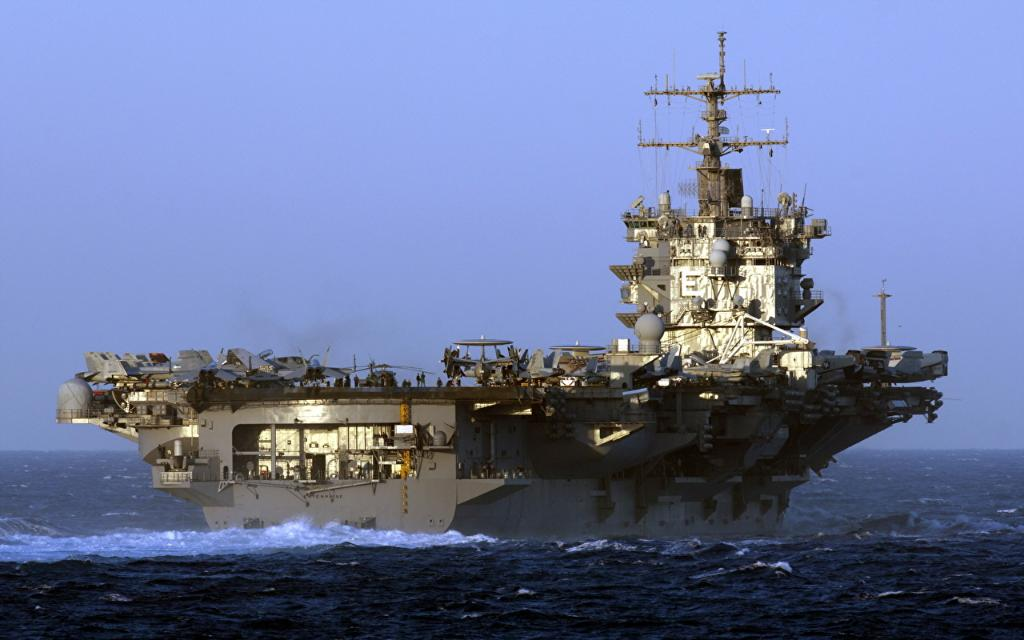Warship: (50, 26, 954, 538)
